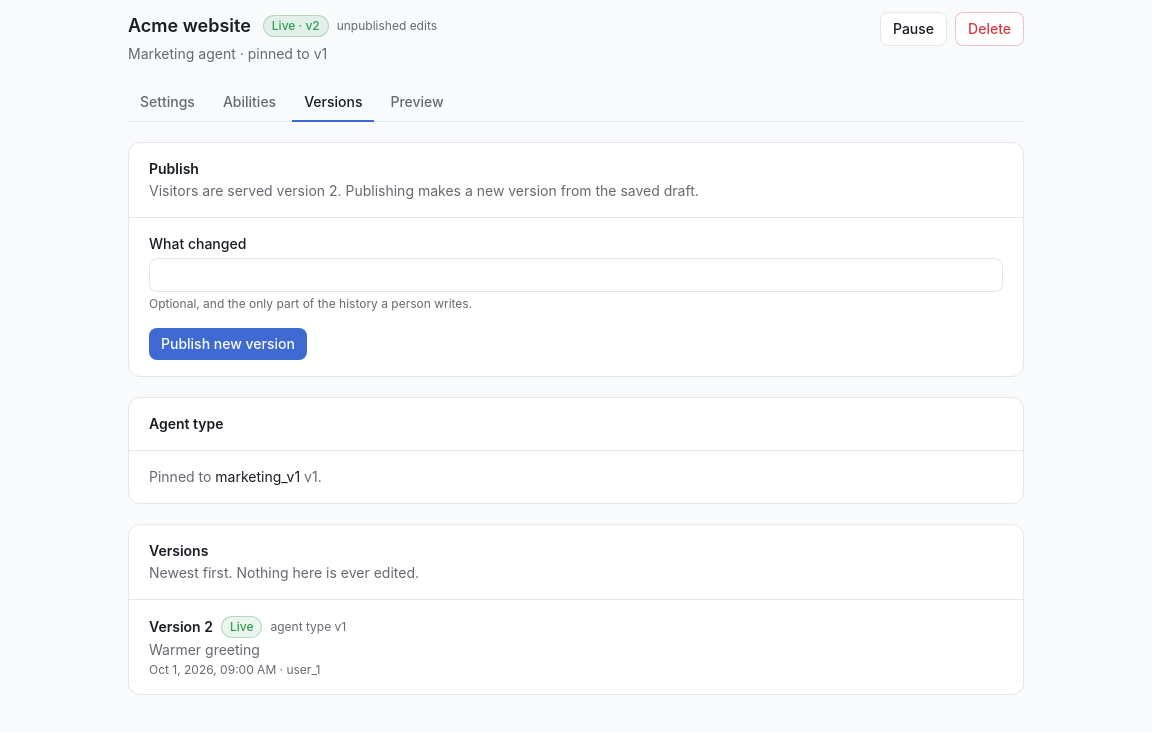
Scenario: publishing › posts the revision and the summary
In the field labelled "What changed": (576, 275) top-left (149, 258), bottom-right (1003, 292), type "Warmer greeting"
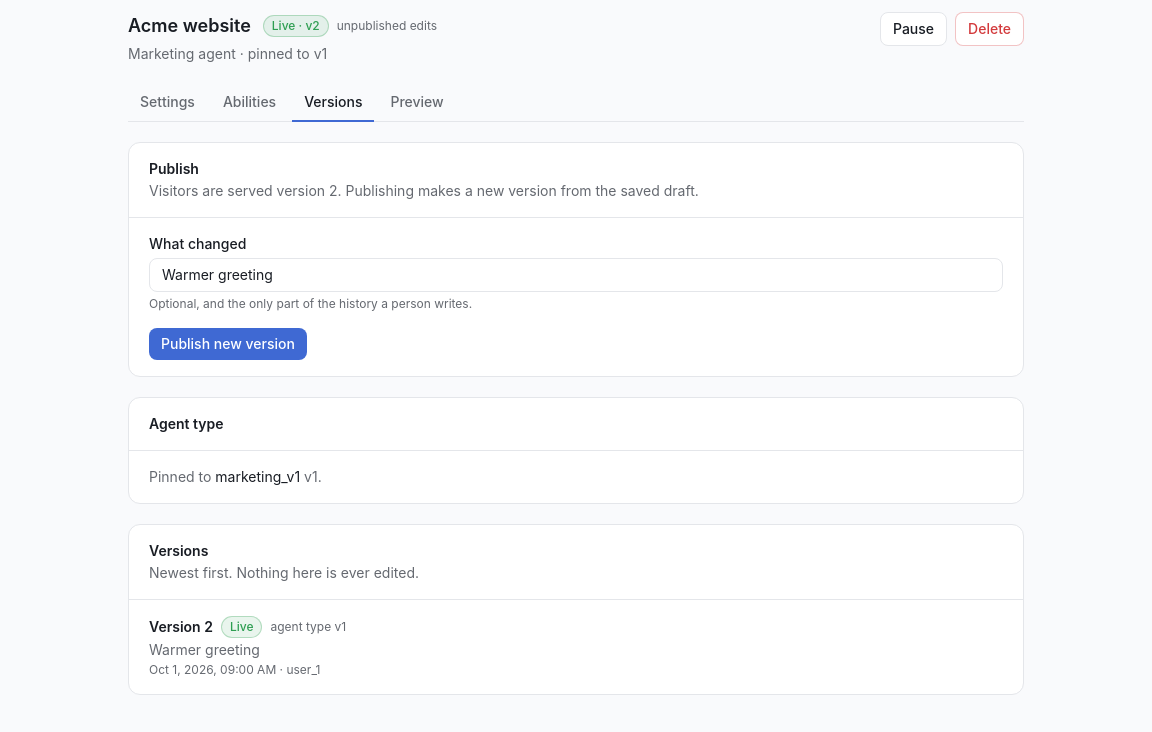
Click the button "Publish new version": (228, 344) top-left (149, 328), bottom-right (307, 360)
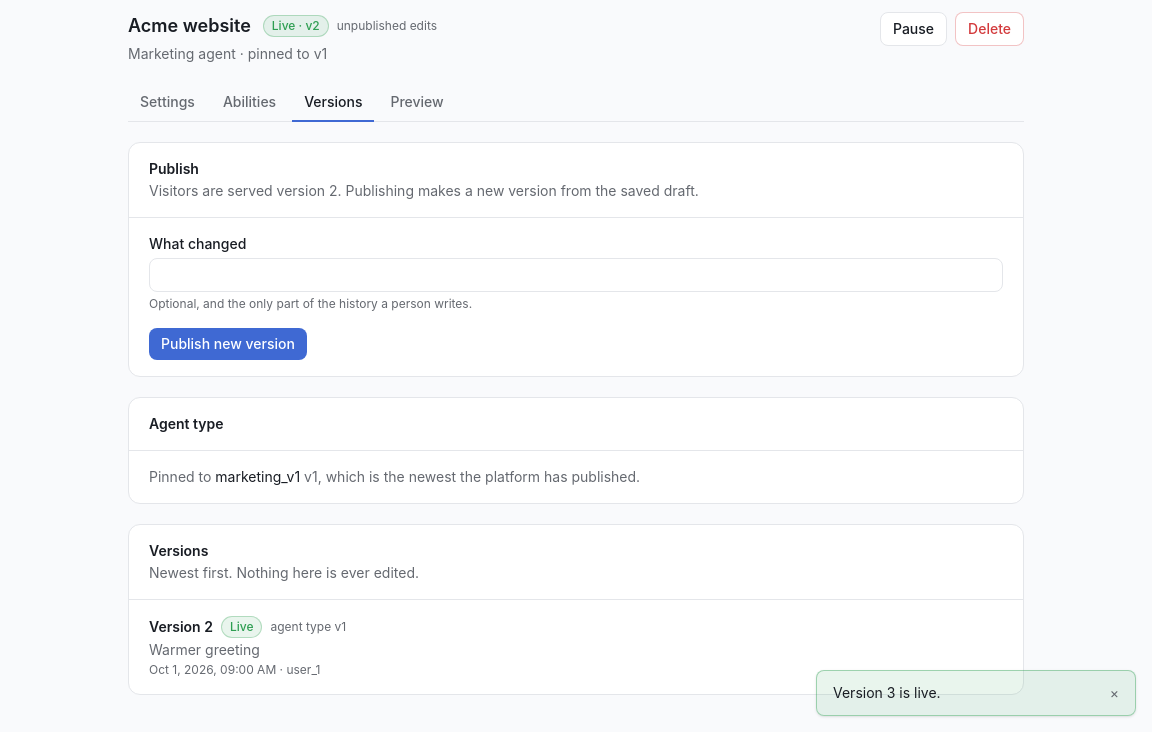
expect the text "Version 3 is live." is shown: met, box top-left (833, 683), bottom-right (941, 703)
